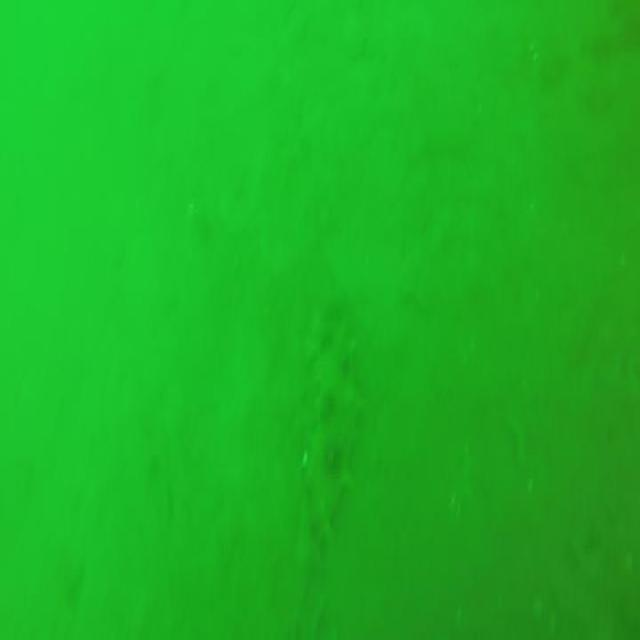holothurian: (296, 297, 359, 591)
